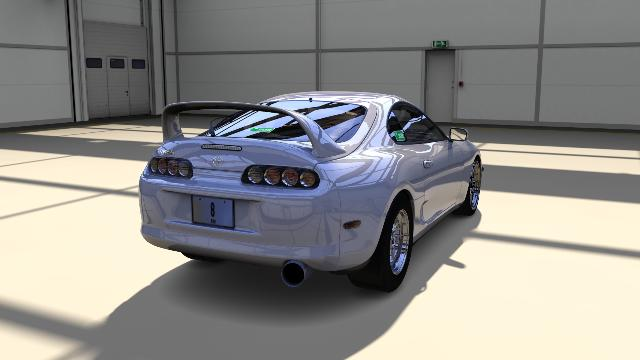License Plate: (191, 194, 235, 232)
